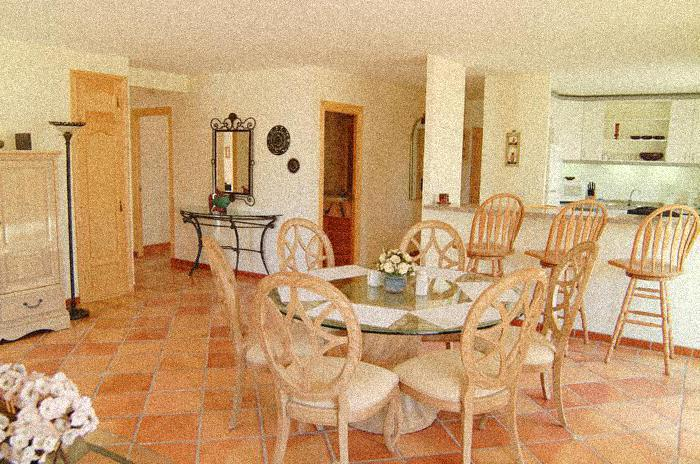Puerta: (80, 81, 125, 299)
